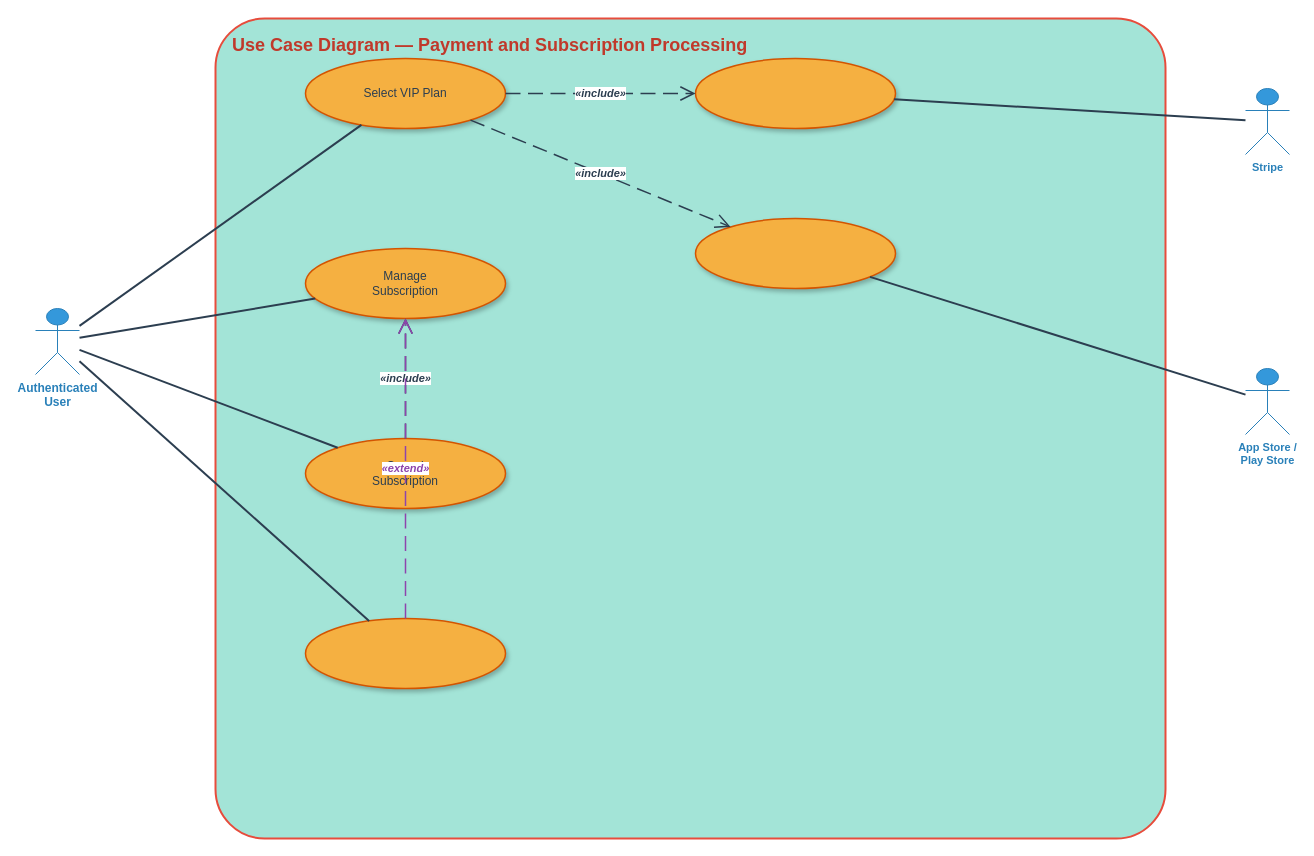
Some shapes in this 1314 by 856 pixel diagram are drawn without their labels. Each missing label, with the centre of its shape:
B2B Gym Billing (see UC25): the point at 406,654
Pay via App Store / Play Store: the point at 796,254
Pay via Stripe: the point at 796,94
